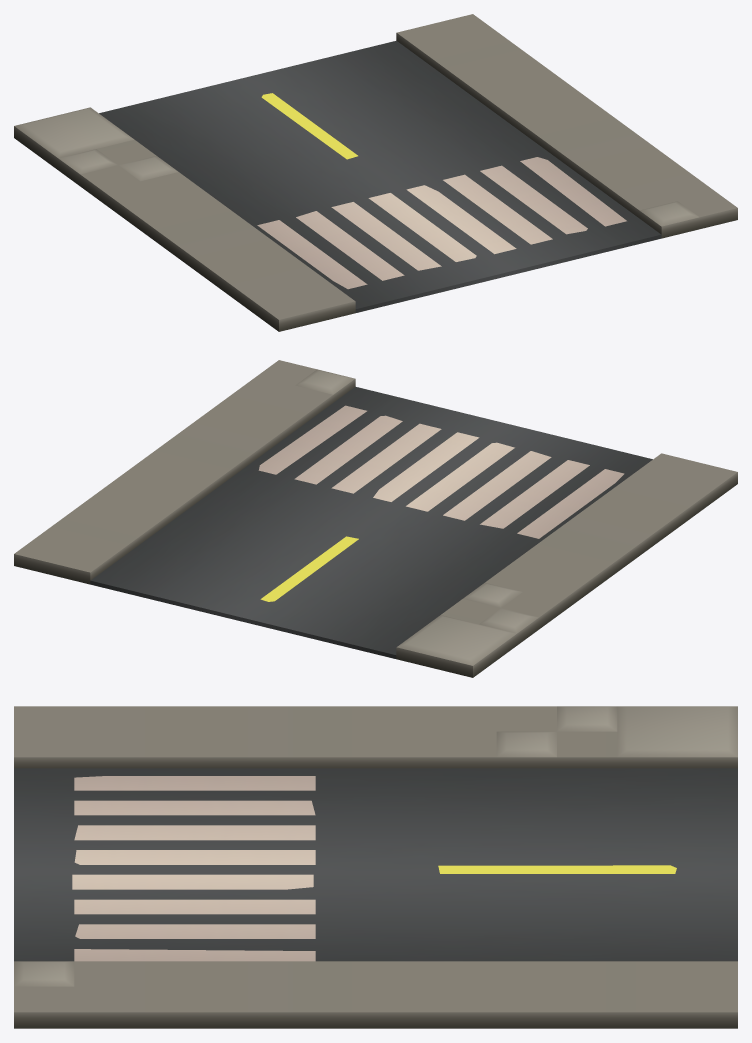
File: Road_1C.fbx
The picture shows the model from 3 angles, top to bottom: view 1: azimuth 30°, elevation 25°; view 2: azimuth 150°, elevation 25°; view 3: azimuth 270°, elevation 25°; orthographic projection. The views are drawn at different scales.
Parts seen in each view (by area): view 1: Road_1C; view 2: Road_1C; view 3: Road_1C.
Boxes of the visible parts, x1=… form: Road_1C: x1=14, y1=14, x2=737, y2=331; Road_1C: x1=14, y1=360, x2=737, y2=677; Road_1C: x1=14, y1=706, x2=737, y2=1028.
Size of the model in its own units: 12 by 0.3565 by 12.
